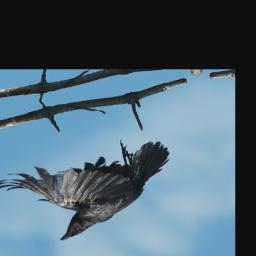Crow: (0, 130, 181, 256)
